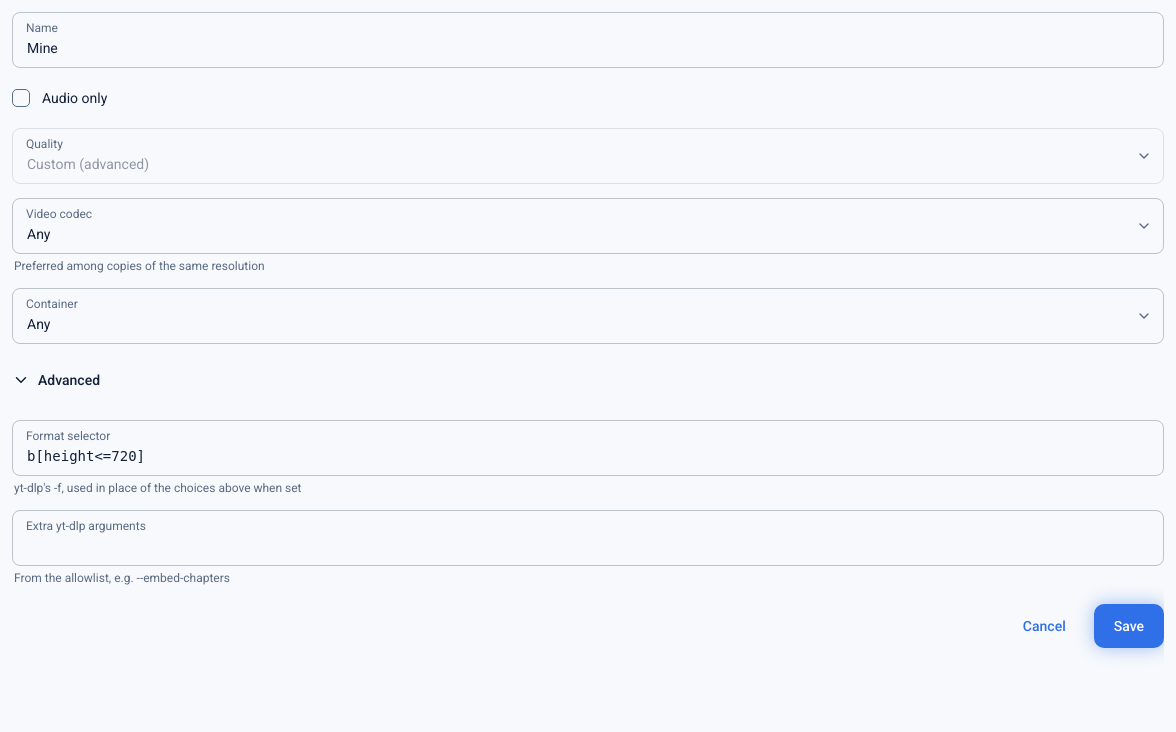
Test: ProfileForm › goes back to the quality once the hand-written selector is cleared
Later steps or results of the test are not shown.
Clear the field labelled "Format selector" at point(588, 448), box [12, 420, 1164, 476]
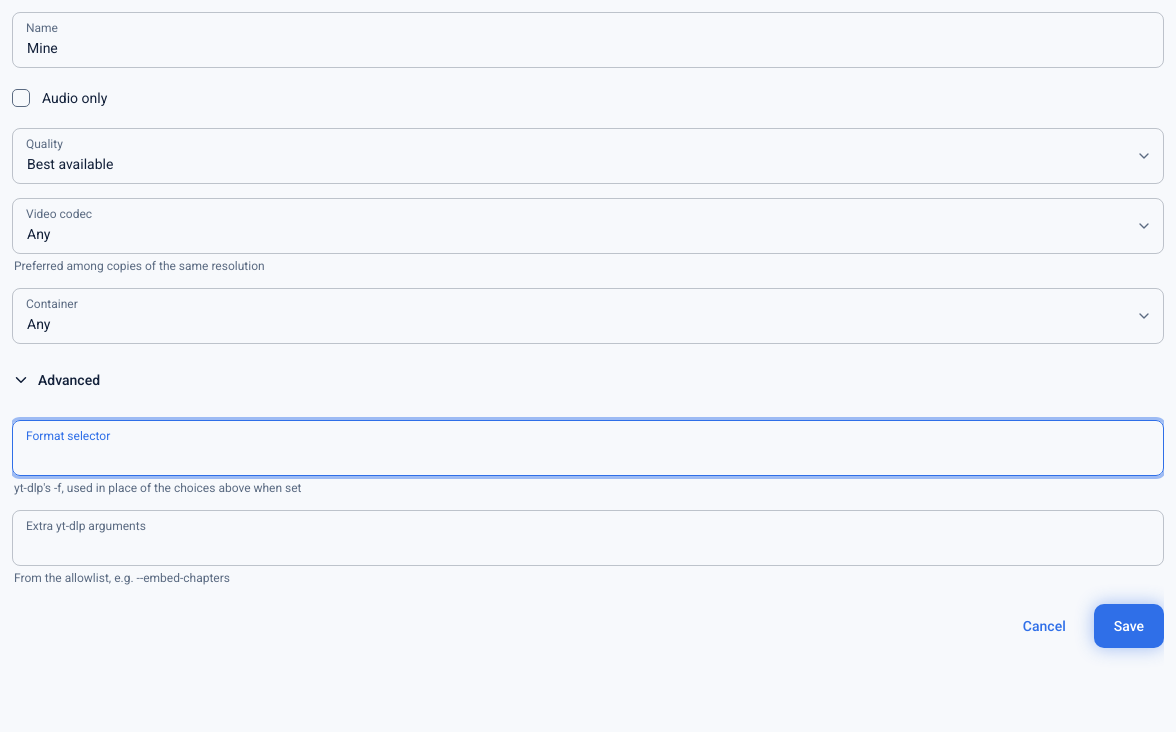
Result: the dropdown labelled "Quality" is enabled at [12, 128, 1164, 184]
